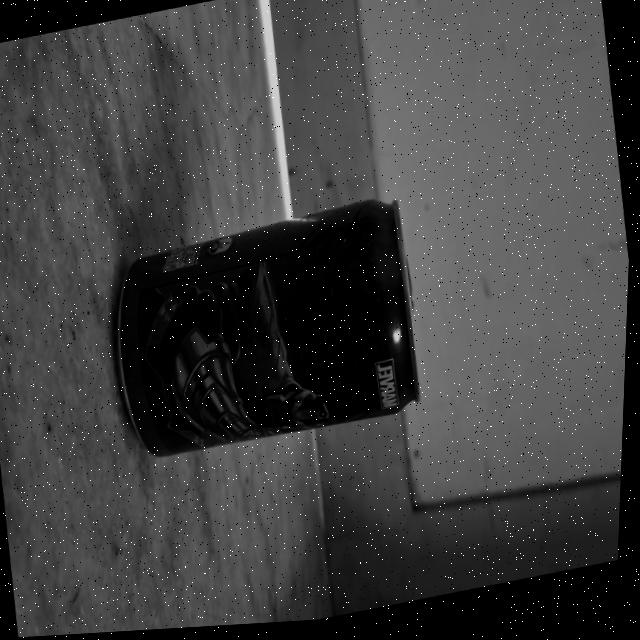Coca Cola Zero: (90, 175, 440, 489)
